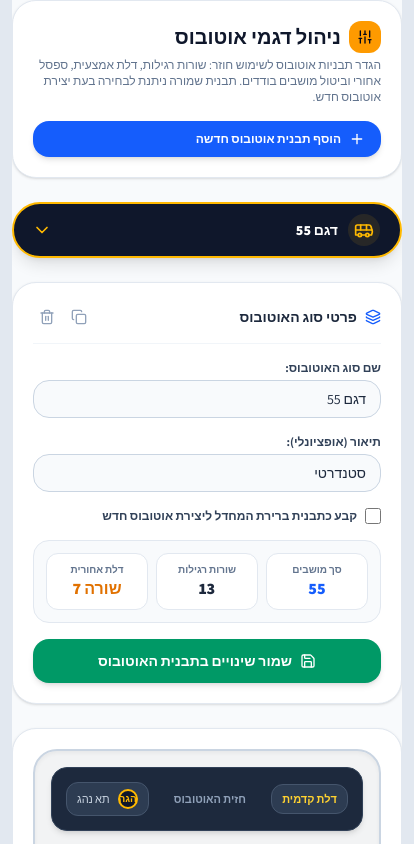
BusTypeManagement › blocks saving a template with an empty name using an inline error, not a toast
Step 1. Clear the field showing "דגם 55" → (207,399), box [33,380,381,418]
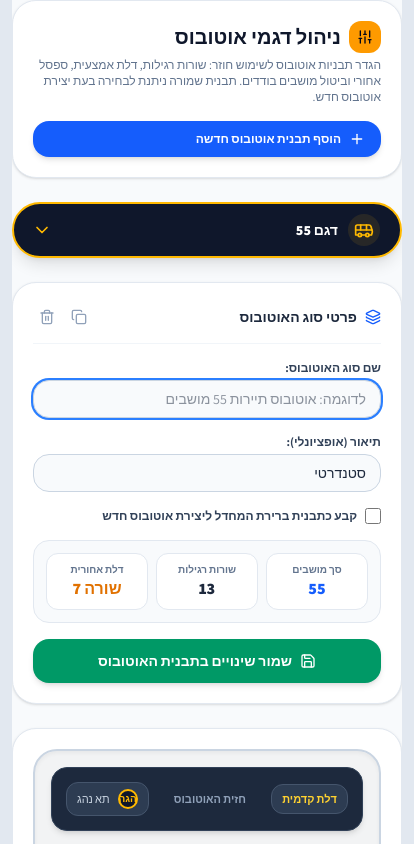
Step 2. Click the button "שמור שינויים בתבנית האוטובוס" → (207,661), box [33,639,381,683]
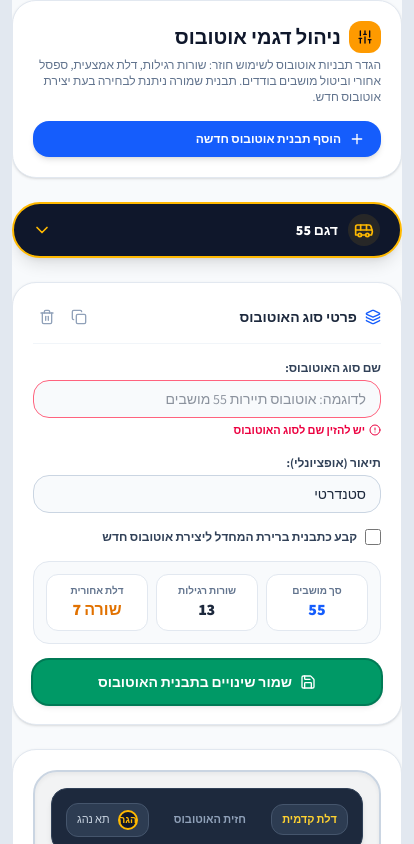
Expected: the text "יש להזין שם לסוג האוטובוס" is shown, [234,422,365,438]
